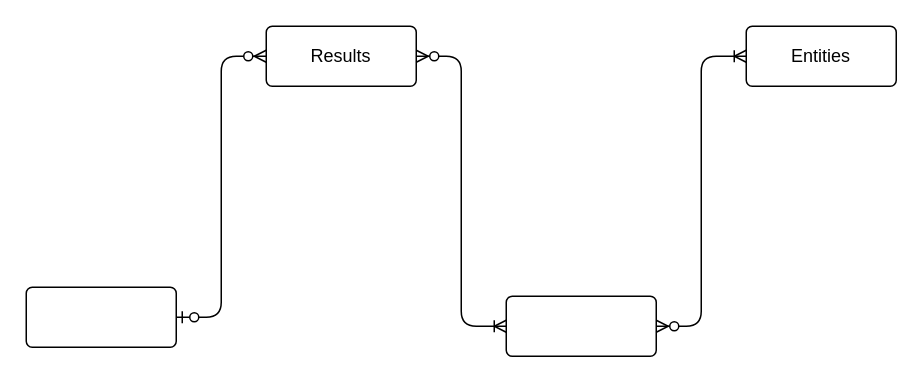
Image size: 923x383. Some labels were removed from this diagram. Here are the shapes that lost their labels. From the top down, the centre of each, then its label:
At pixel 100 316: "User".
At pixel 580 325: "Twits".
